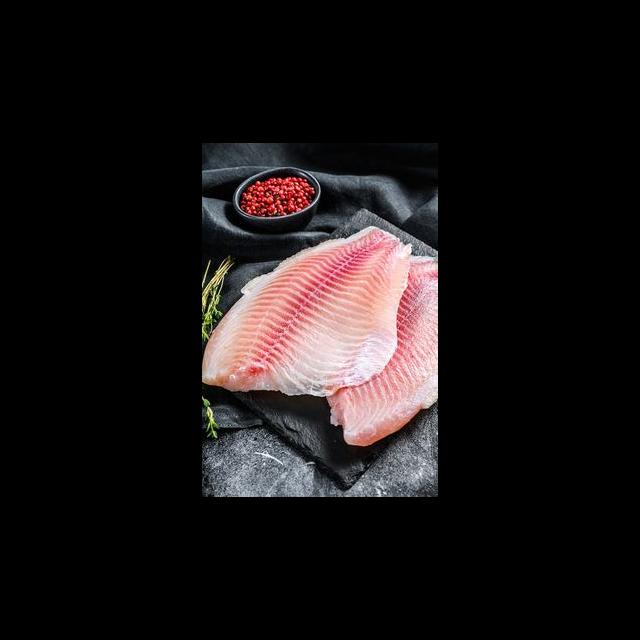fish: (202, 226, 416, 396)
